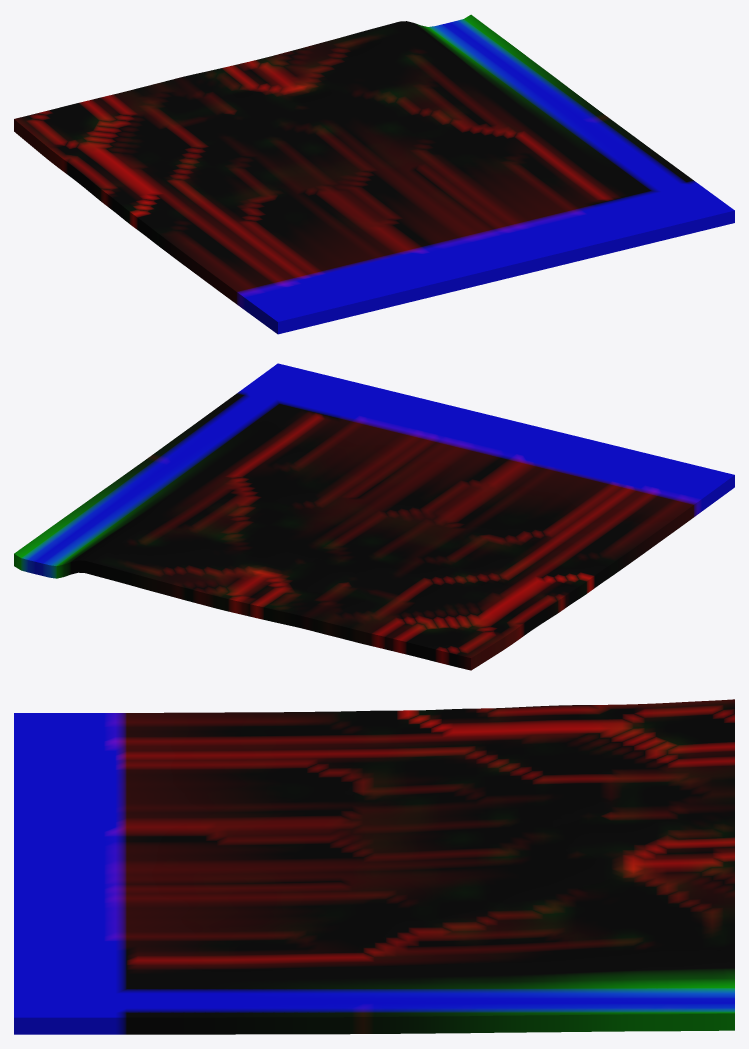
The model's file is Terrain_02_04.fbx.
3 views of the same model, one above another, from view 1: azimuth 30°, elevation 25°; view 2: azimuth 150°, elevation 25°; view 3: azimuth 270°, elevation 25° (orthographic). The views are drawn at different scales.
Visible parts, largest first — view 1: Terrain_02_04_LOD0; view 2: Terrain_02_04_LOD0; view 3: Terrain_02_04_LOD0.
Part boxes in pixels (bbox=[...]): Terrain_02_04_LOD0: bbox=[14, 14, 734, 334]; Terrain_02_04_LOD0: bbox=[14, 363, 734, 670]; Terrain_02_04_LOD0: bbox=[14, 699, 734, 1034].
Size of what is drawn, in the model's own units: 384 by 20.63 by 384.
